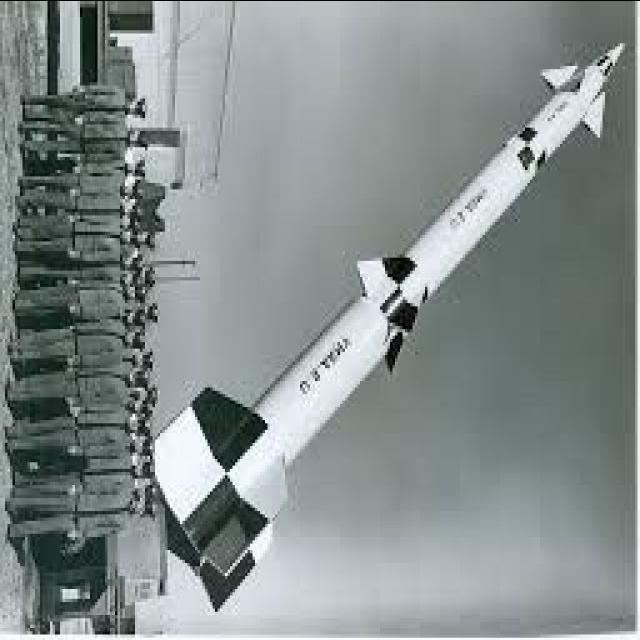Missile: (152, 9, 625, 609)
